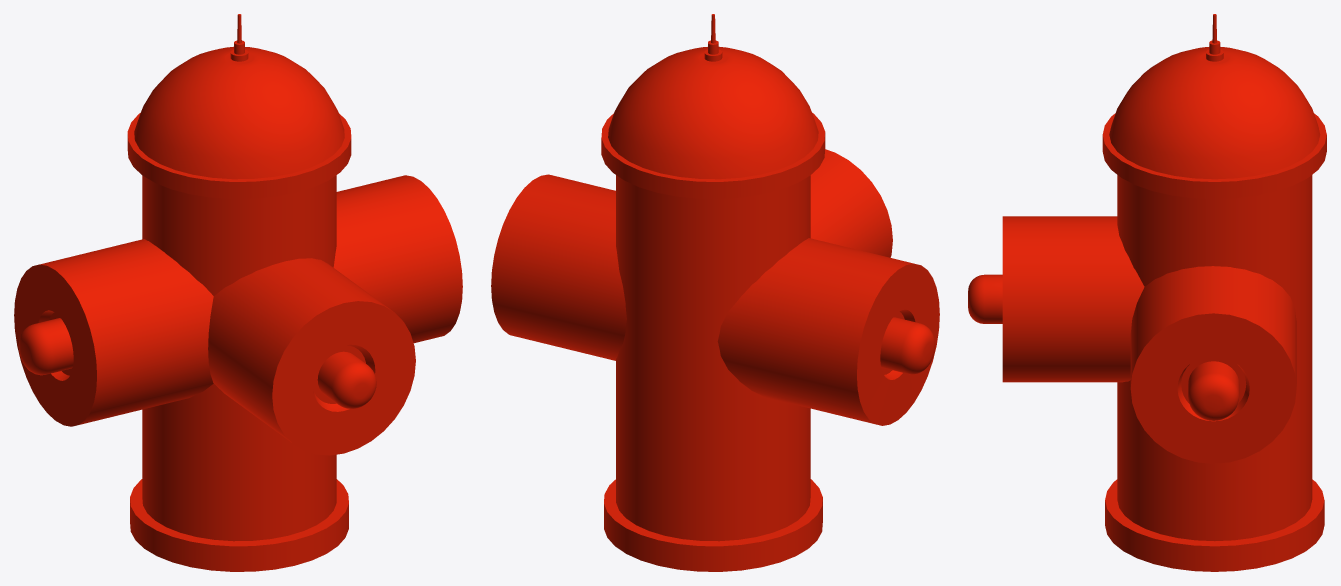
Rendered from Water Hydrant.fbx.
The picture shows the model from 3 angles, left to right: view 1: azimuth 30°, elevation 25°; view 2: azimuth 150°, elevation 25°; view 3: azimuth 270°, elevation 25°; orthographic projection.
Parts seen in each view (by area): view 1: Circle; view 2: Circle; view 3: Circle.
Boxes of the visible parts, box(x1,y1,x2,y2) form: Circle: box(14, 14, 462, 571); Circle: box(491, 14, 939, 571); Circle: box(968, 14, 1326, 571).
Bounding box in the file's own units: 1056 × 1212 × 771.
